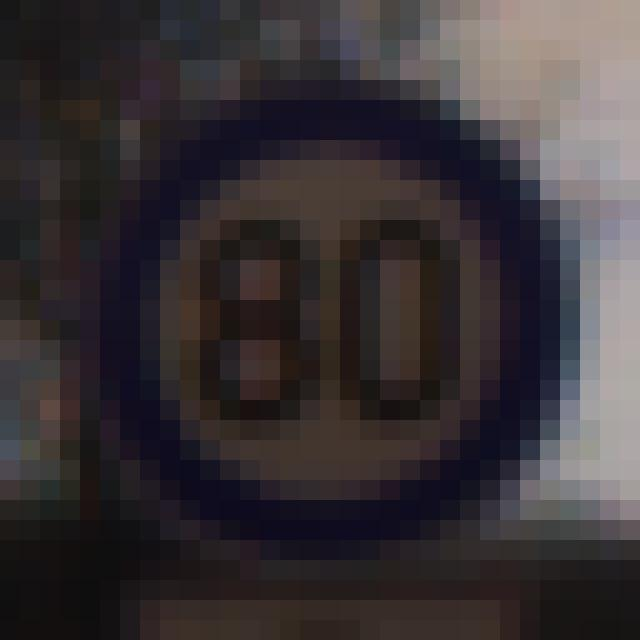SPEED-LIMIT-80: (93, 103, 565, 528)
